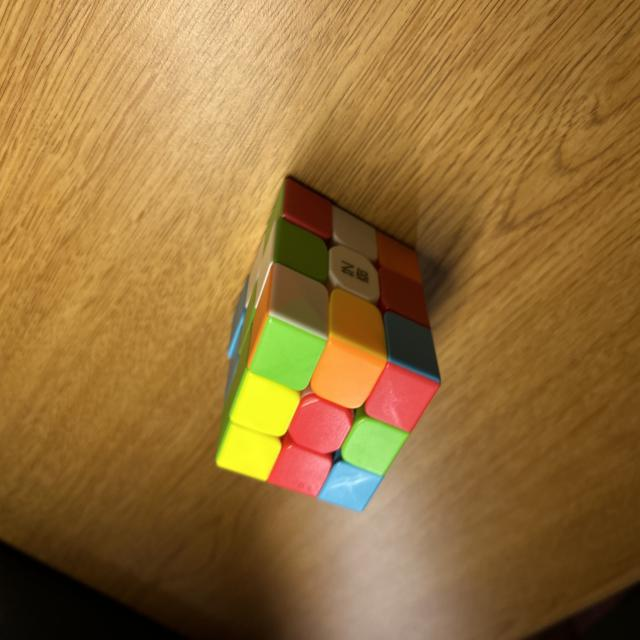Rubiks Cube: (214, 176, 440, 515)
